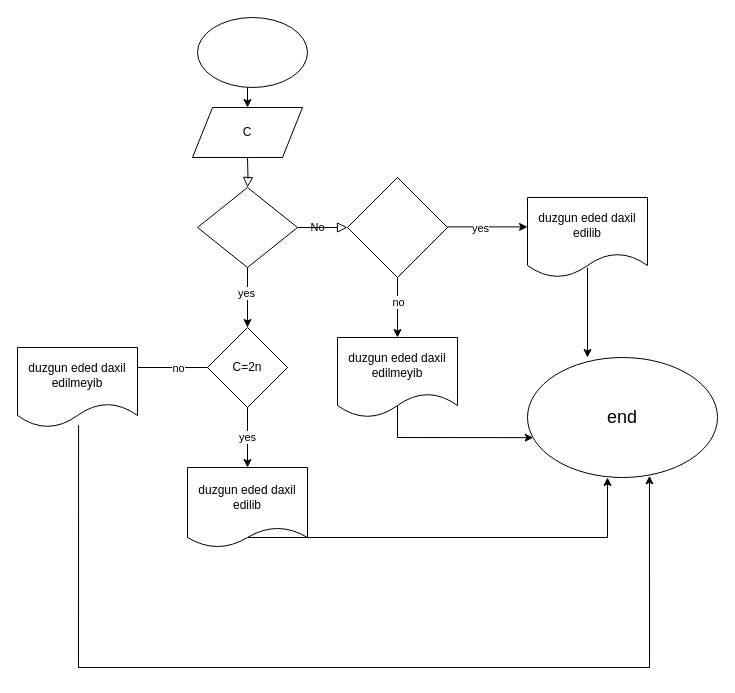
This 735x693 diagram has some shape labels left out. Each missing label, with the box of its shape:
C=2n+1: (346, 176, 448, 278)
C>100: (196, 186, 298, 268)
start: (196, 16, 308, 88)
